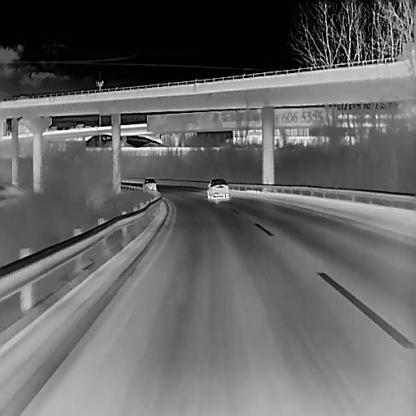car: (206, 178, 228, 199), (141, 177, 157, 192)
